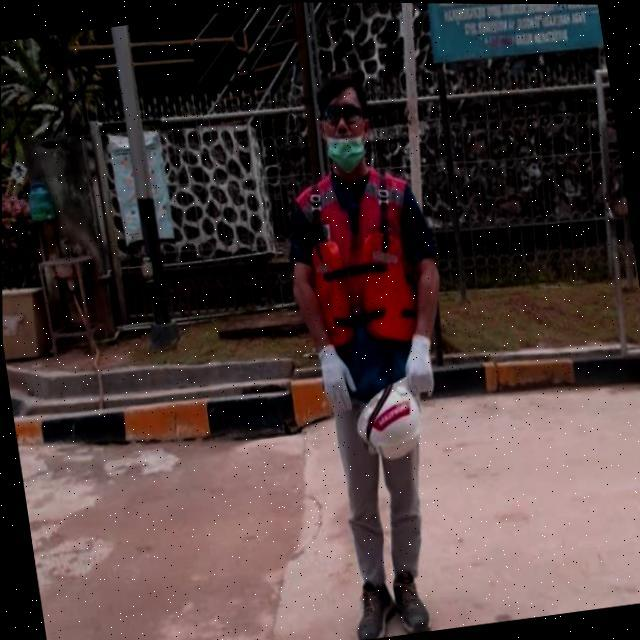goggles_on: (314, 96, 370, 133)
